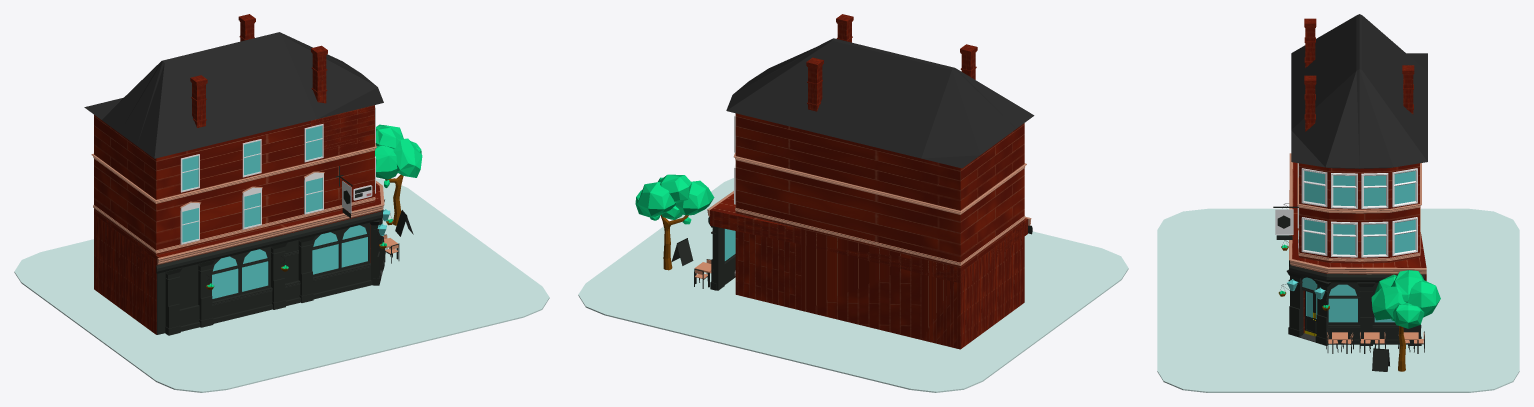
Rendered from Building_TheGC_Optimized_GLTF2.glb.
3 renders of one model, left to right at view 1: azimuth 30°, elevation 25°; view 2: azimuth 150°, elevation 25°; view 3: azimuth 270°, elevation 25°, orthographic. The views are drawn at different scales.
Visible parts, largest first — view 1: Paving, Building.1, Roof, Glass (×3), Fascia_Skirting.2, Fascia_Curved, Fascia_RidgeOverhang, BuildingFIll, Cube (×3), Building Trim.1, Building Trim, Window Detail (×2) (+10 smaller); view 2: Building.1, Paving, Roof, BuildingFIll, Building Trim.1, Building Trim, Cube.004, Cube.001, Chimney.1, Cube, Cube.008, Chimney.5 (+1 smaller); view 3: Paving, Roof, Glass (×8), Building.1, BuildingFIll, Cube (×3), Fascia_RidgeOverhang, Fascia_Curved, Cube.005, Cube.004, Building Trim.1, Glassb2 (+7 smaller).
Part boxes in pixels (x1,y1,x2,y2): Paving: (14, 178, 549, 392); Building.1: (94, 105, 374, 334); Roof: (84, 32, 383, 158); Glass (×3): (212, 232, 338, 298); Fascia_Skirting.2: (179, 263, 370, 326); Fascia_Curved: (156, 210, 382, 273); Fascia_RidgeOverhang: (157, 181, 384, 264); BuildingFIll: (105, 183, 380, 265); Cube (×3): (165, 240, 312, 327); Building Trim.1: (91, 143, 376, 203); Building Trim: (93, 197, 375, 253); Window Detail (×2): (212, 234, 370, 305); Building.1: (735, 113, 1024, 349); Paving: (578, 178, 1128, 392); Roof: (726, 38, 1034, 168); BuildingFIll: (710, 193, 1027, 282); Building Trim.1: (733, 153, 1026, 214); Building Trim: (735, 207, 1025, 265); Cube.004: (637, 182, 675, 215); Cube.001: (675, 180, 714, 215); Chimney.1: (806, 57, 823, 111); Cube: (712, 227, 724, 290); Cube.008: (658, 174, 691, 203); Chimney.5: (960, 44, 977, 79); Paving: (1157, 208, 1519, 392); Roof: (1291, 14, 1427, 168); Glass (×8): (1304, 171, 1415, 322); Building.1: (1299, 163, 1419, 332); BuildingFIll: (1292, 162, 1426, 280); Cube (×3): (1290, 276, 1424, 334); Fascia_RidgeOverhang: (1289, 153, 1426, 274); Fascia_Curved: (1289, 260, 1424, 282); Cube.005: (1371, 286, 1405, 320); Cube.004: (1406, 280, 1440, 317); Building Trim.1: (1297, 163, 1421, 213); Glassb2: (1333, 175, 1355, 206).
Size of the model in its own units: 353 by 214 by 296.
Materials: 30 (1 with a texture image).
